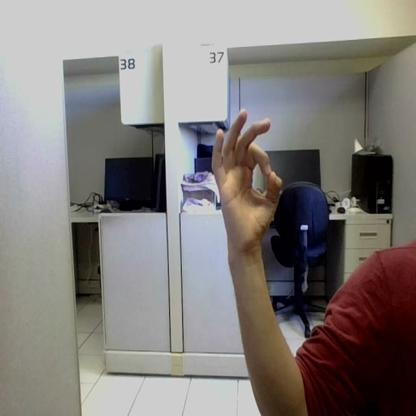F: (212, 109, 282, 242)
